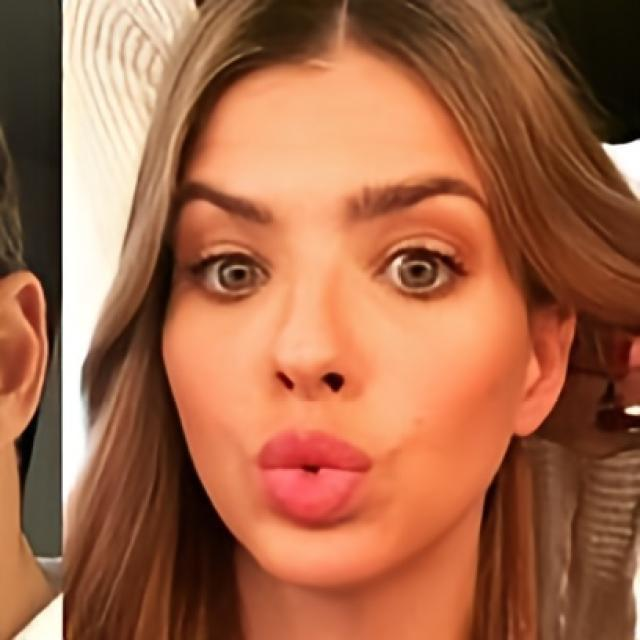surprise: (160, 39, 534, 588)
